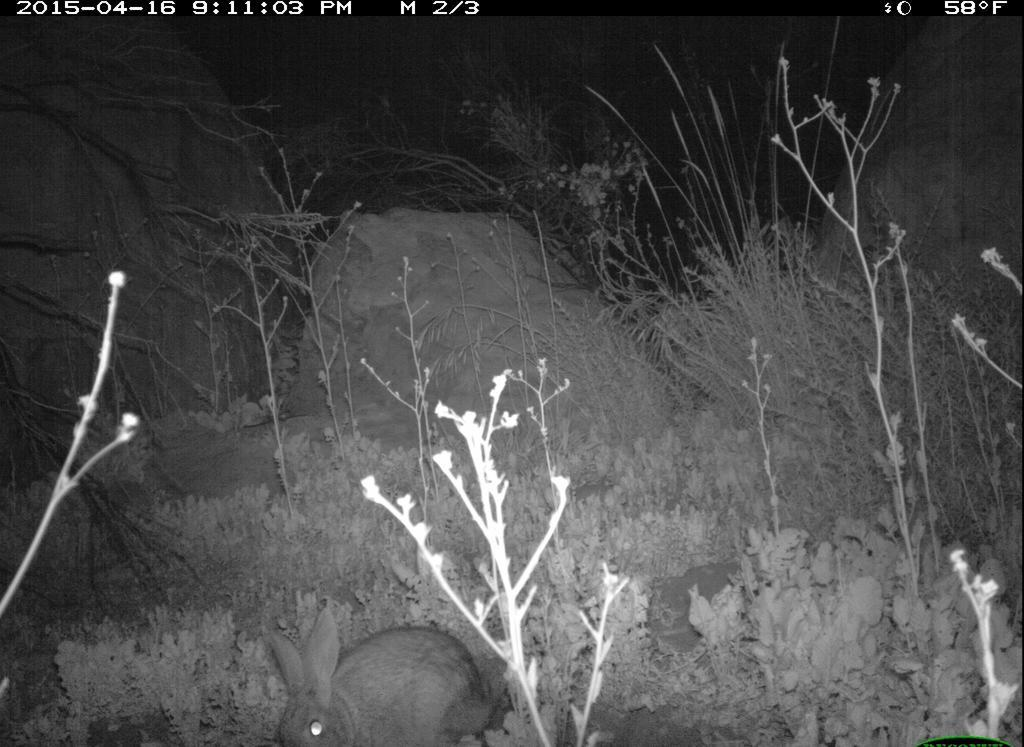rabbit: (263, 603, 510, 744)
